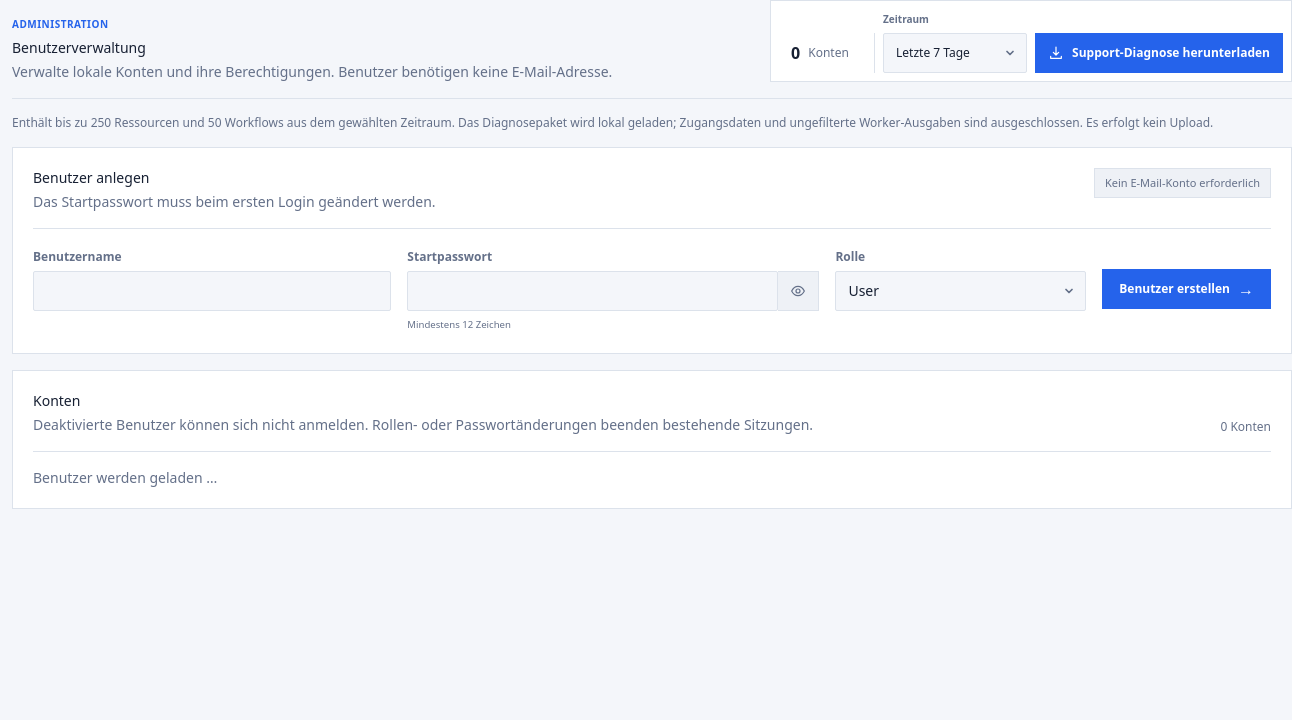
account and admin pages › keeps user-creation submit available and explains an invalid start password
The width and height of the screenshot is (1292, 720).
Step 1. Click the button "Benutzer erstellen →" → {"x": 1187, "y": 289}, box [1102,269,1271,309]
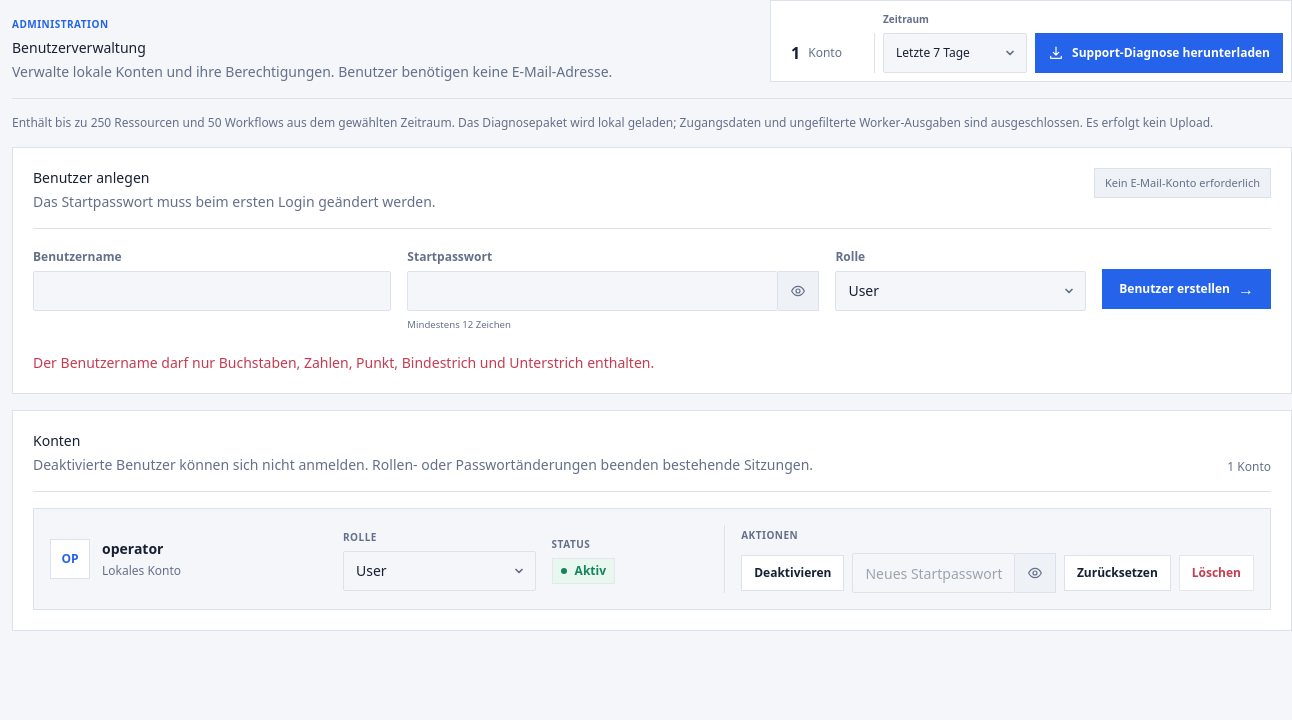
Expected: the message shows "Benutzername darf nur", [33,353,654,372]
Step 2. Type "operator2" into the field labelled "Benutzername" → {"x": 212, "y": 291}, box [33,271,391,311]
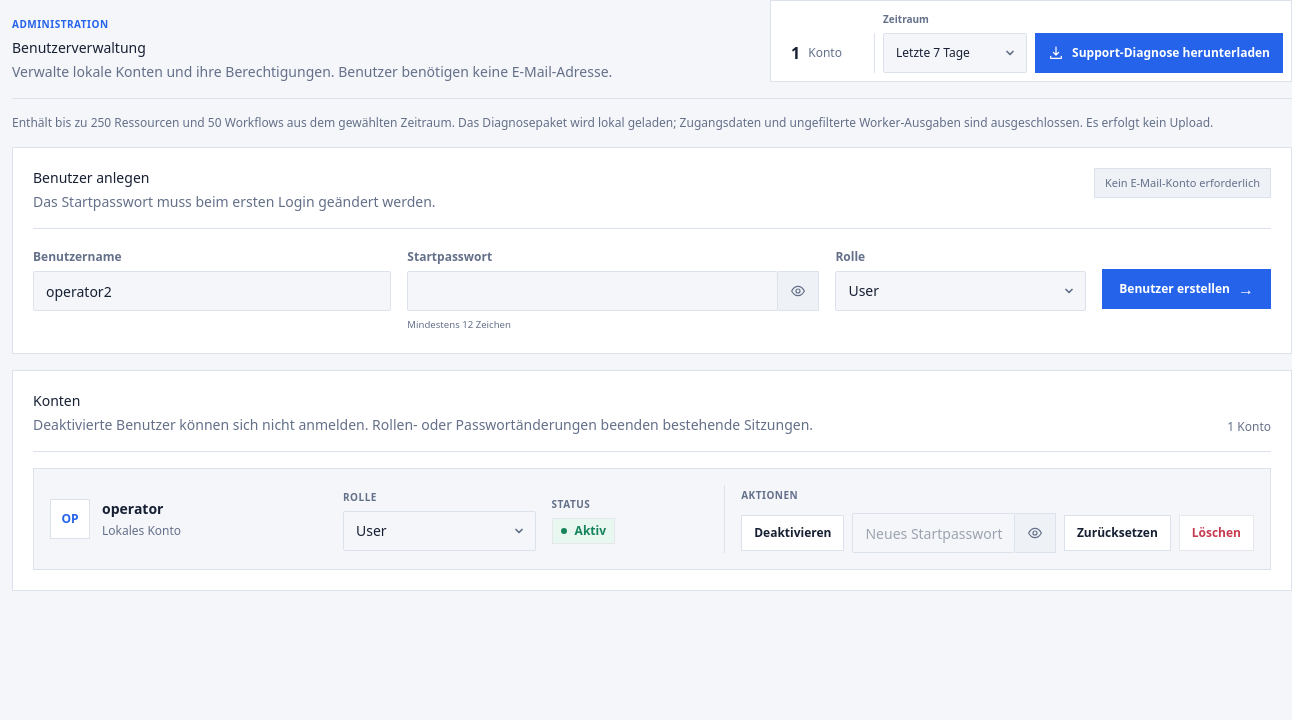
Step 3. Click the button "Benutzer erstellen →" → {"x": 1187, "y": 289}, box [1102,269,1271,309]
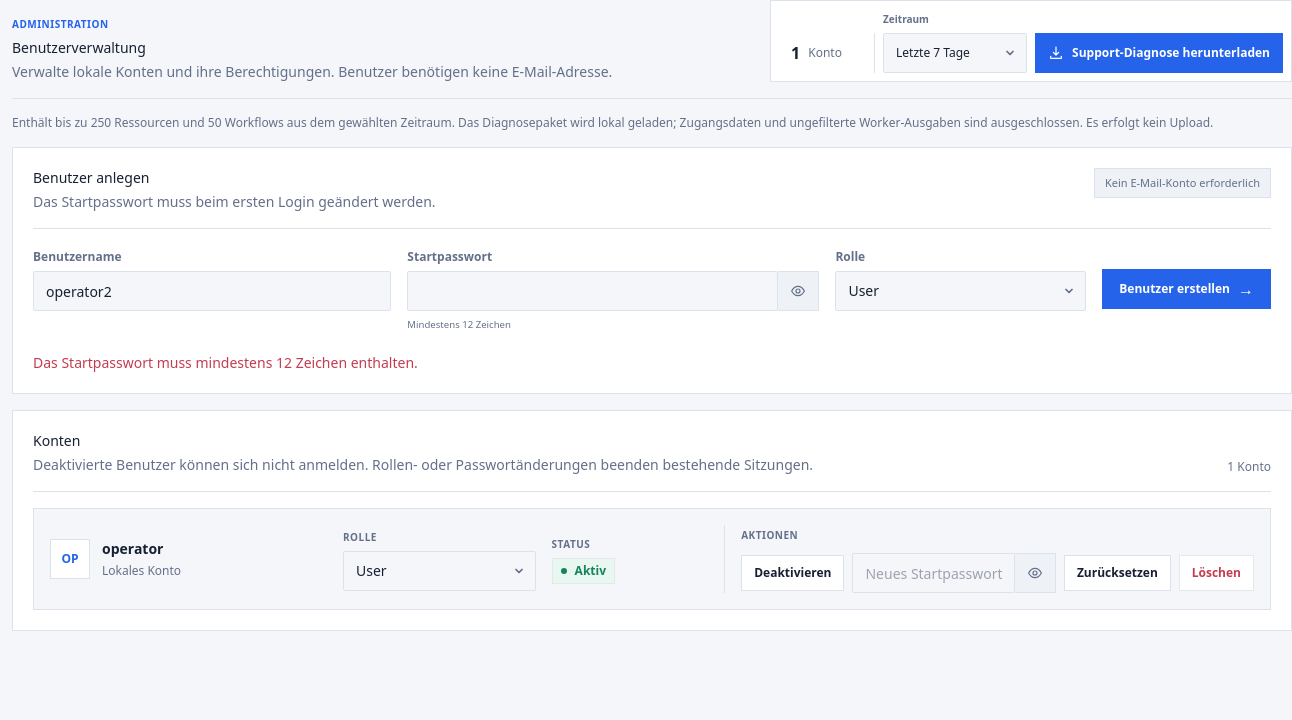
Expected: the message shows "Startpasswort muss mindestens 12 Zeichen enthalten", [33,353,418,372]
